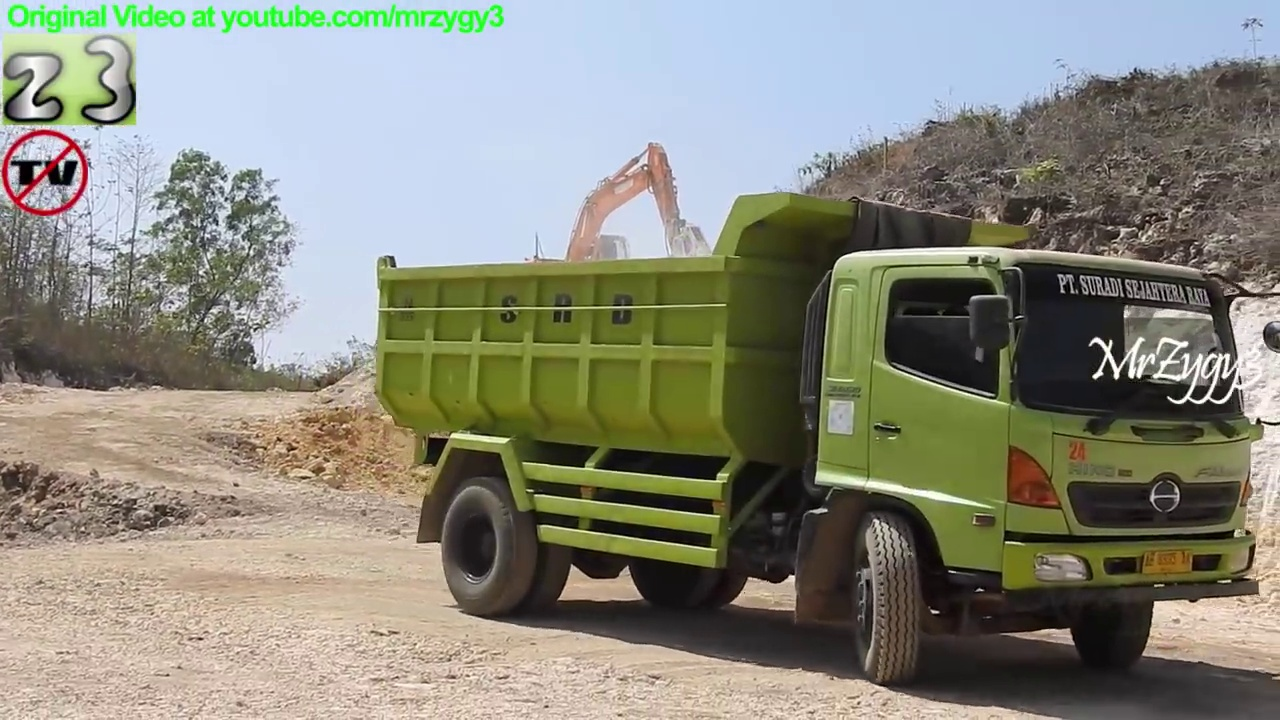excavator: (503, 136, 722, 336)
truck: (367, 186, 1280, 720)
